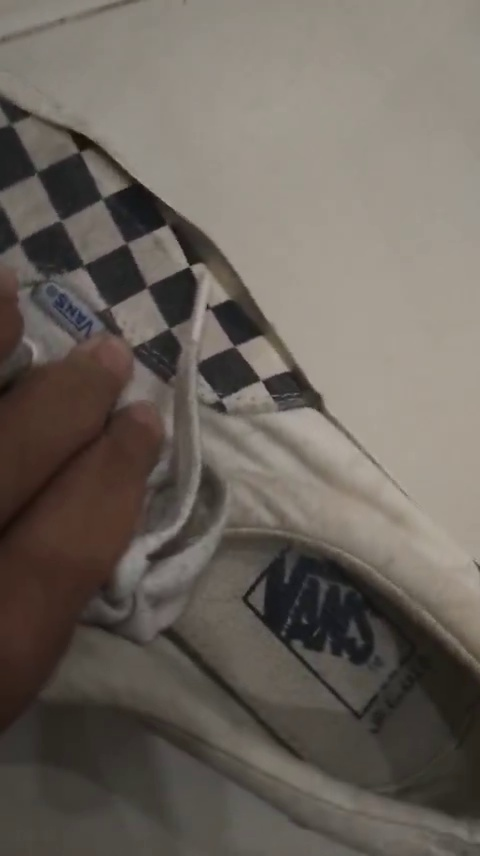bonding: (147, 179, 317, 397)
